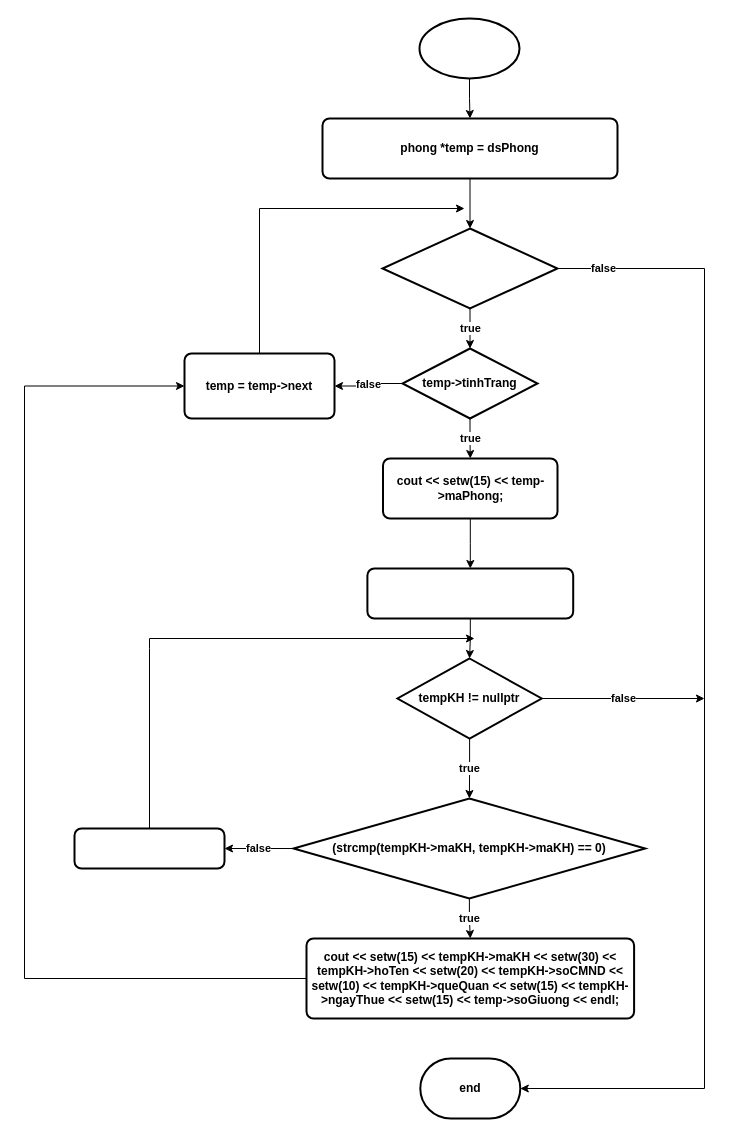
Some shapes in this 730 by 1136 pixel diagram are drawn without their labels. The shapes that lost their labels are listed below. From the top down, each one's centre as x and y in pixels, then its label:
At point (469, 48): "start".
At point (469, 268): "temp != nullptr".
At point (470, 593): "khachHang *tempKH = dsKhachHang".
At point (149, 848): "tempKH = tempKH->next".
